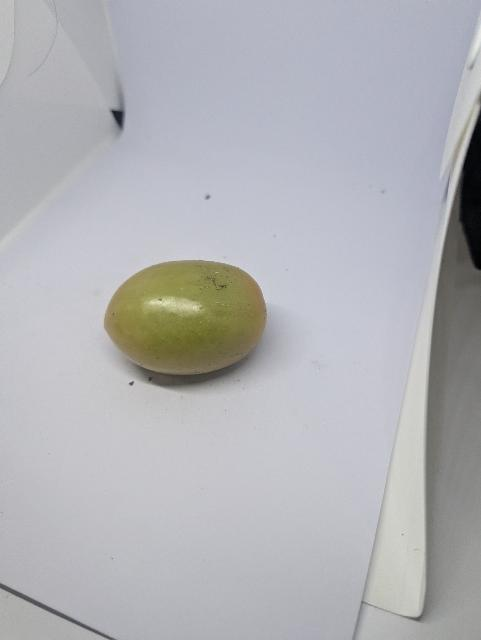breaker: (105, 260, 267, 375)
